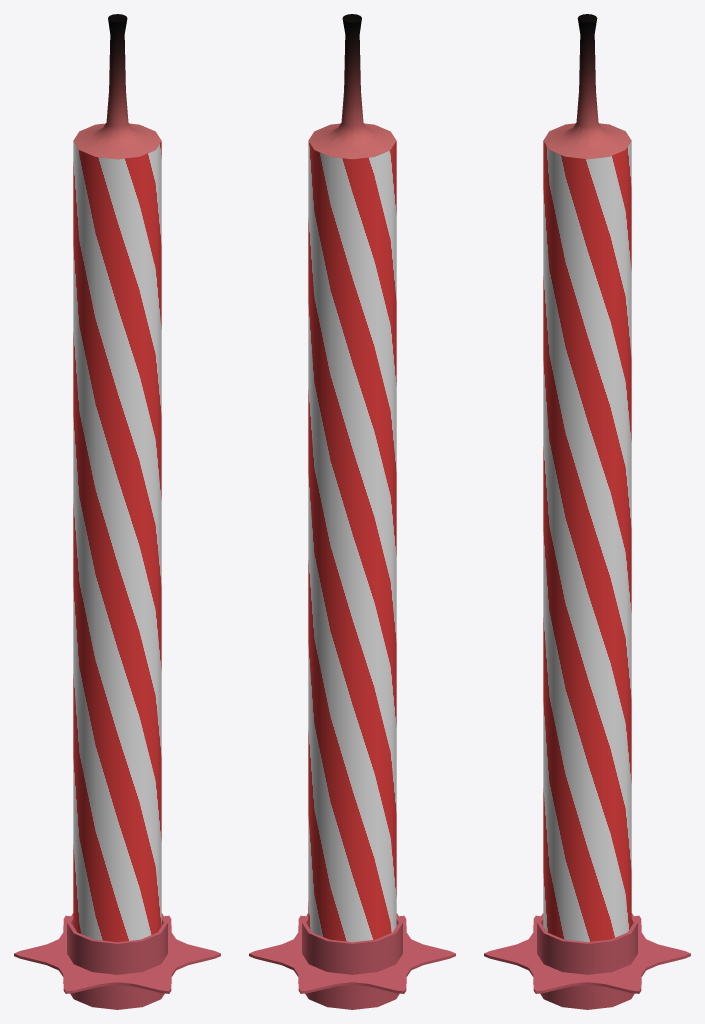
The model's file is Candle_Red.fbx.
3 renders of one model, left to right at view 1: azimuth 30°, elevation 25°; view 2: azimuth 150°, elevation 25°; view 3: azimuth 270°, elevation 25°, orthographic.
Visible parts, largest first — view 1: Candle_Red, Candle_Holder_Red; view 2: Candle_Red, Candle_Holder_Red; view 3: Candle_Red, Candle_Holder_Red.
Part boxes in pixels (box(x1,y1,x2,y2)): Candle_Red: box(73, 14, 161, 942); Candle_Holder_Red: box(14, 913, 220, 1009); Candle_Red: box(308, 14, 396, 942); Candle_Holder_Red: box(249, 913, 455, 1009); Candle_Red: box(543, 14, 631, 942); Candle_Holder_Red: box(484, 913, 690, 1009).
Size of the model in its own units: 1.64 by 9.81 by 1.9.
4 materials, 3 textured.
